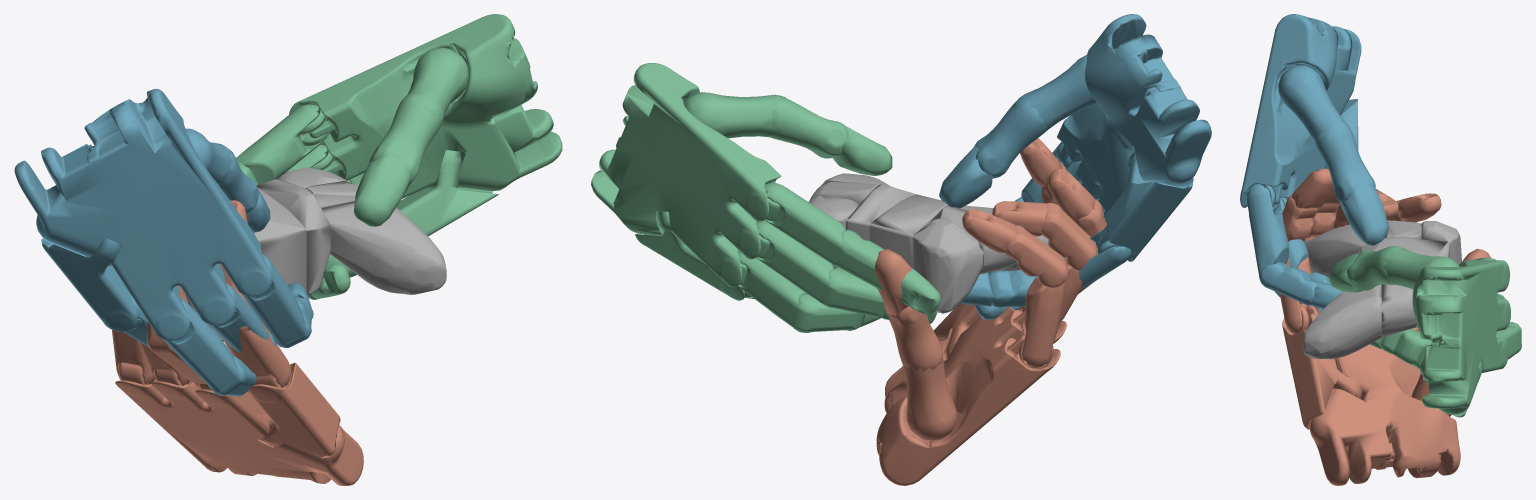
3 views of the same model, side by side, from view 1: azimuth 30°, elevation 25°; view 2: azimuth 150°, elevation 25°; view 3: azimuth 270°, elevation 25° (orthographic). The views are drawn at different scales.
Size of the model in its own units: 0.3267 by 0.2486 by 0.1597.
